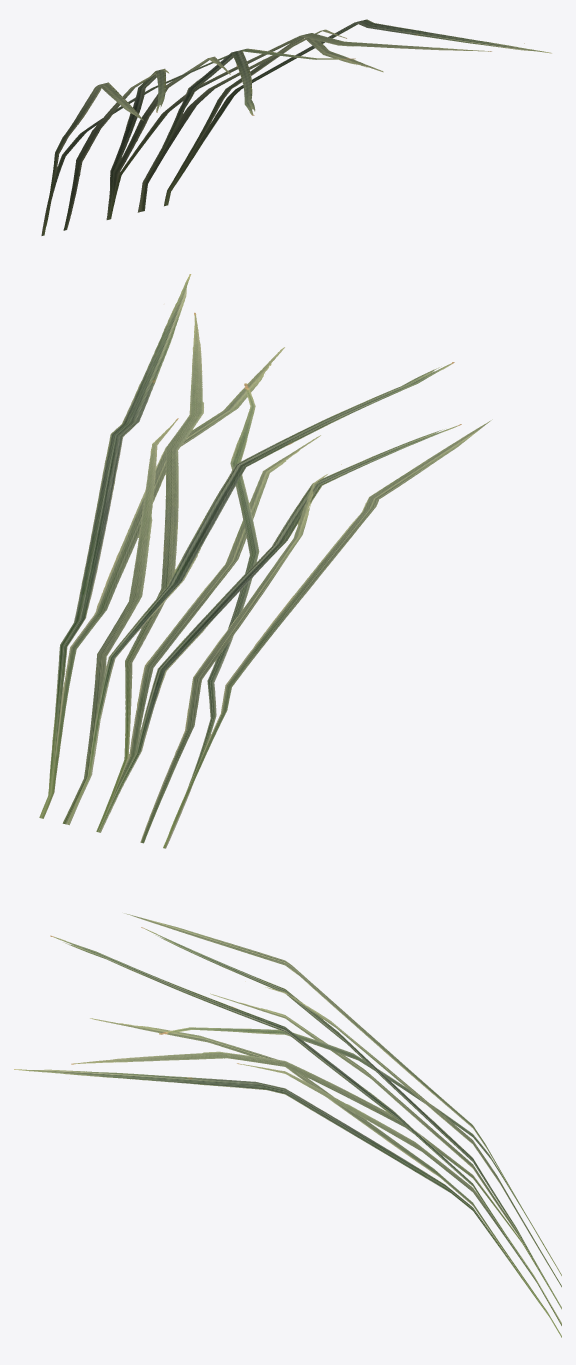
File: grass_3.fbx
3 renders of one model, top to bottom at view 1: azimuth 30°, elevation 25°; view 2: azimuth 150°, elevation 25°; view 3: azimuth 270°, elevation 25°, orthographic. The views are drawn at different scales.
Visible parts, largest first — view 1: Plane008; view 2: Plane008; view 3: Plane008.
Boxes of the visible parts, x1,y1,x2,y2 form: Plane008: [41, 19, 551, 235]; Plane008: [39, 274, 492, 848]; Plane008: [14, 913, 561, 1337].
Size of the model in its own units: 5.37 by 6.54 by 4.31.
Materials: 1 (1 with a texture image).
